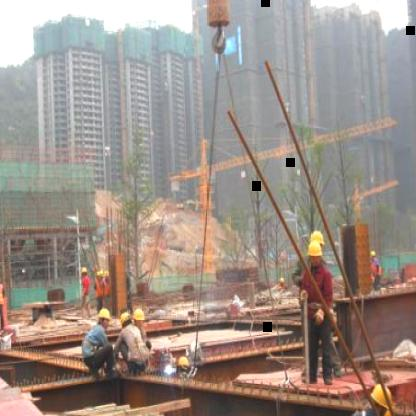helmet: (97, 302, 114, 324), (308, 239, 322, 257), (132, 306, 146, 324)
